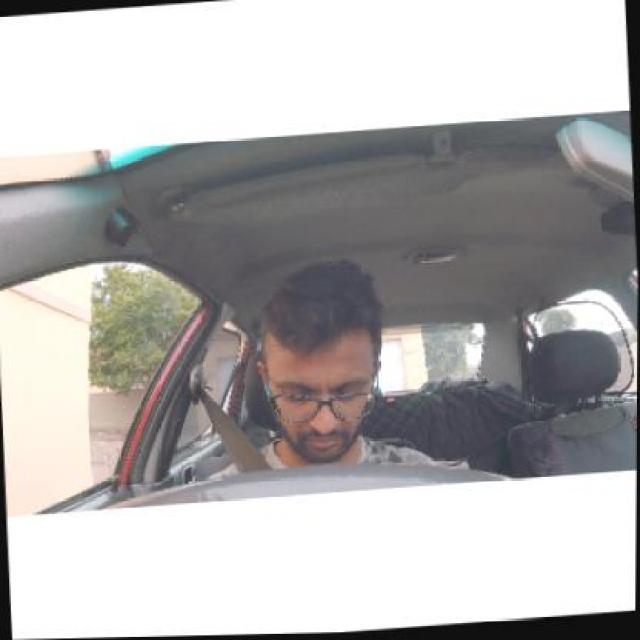drowsy: (234, 246, 401, 474)
